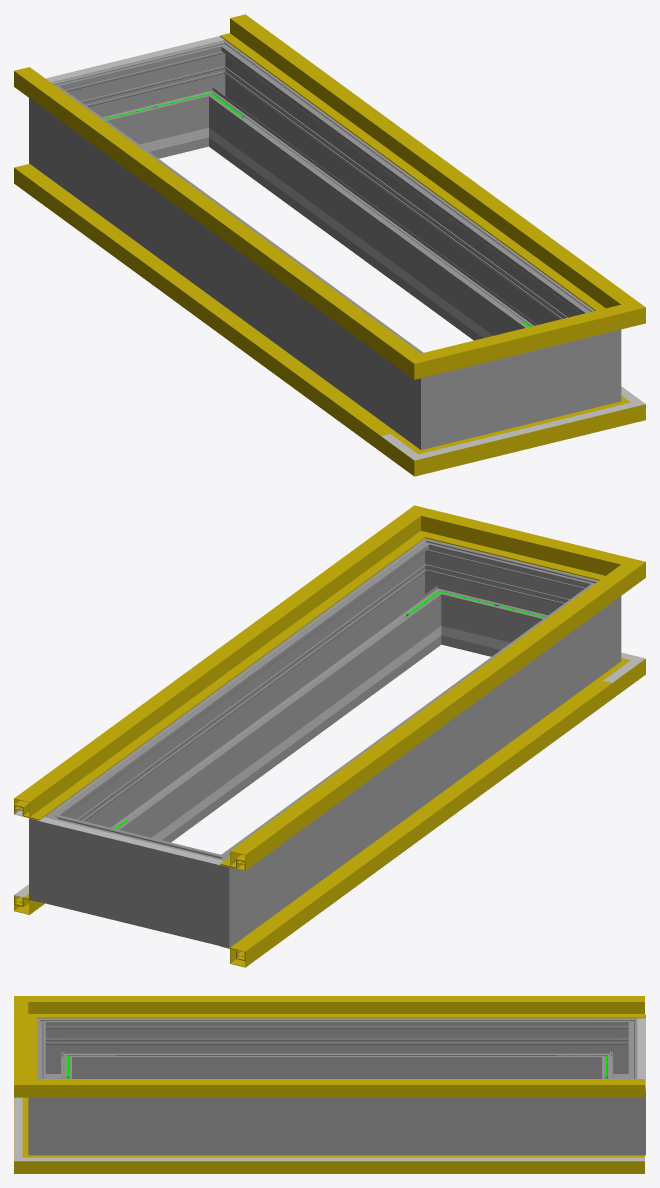
The picture shows the model from 3 angles, top to bottom: view 1: azimuth 30°, elevation 25°; view 2: azimuth 150°, elevation 25°; view 3: azimuth 270°, elevation 25°; orthographic projection. The views are drawn at different scales.
Parts seen in each view (by area): view 1: 3DGeom-297, 3DGeom-268, 3DGeom-128, 3DGeom-118, 3DGeom-6, 3DGeom-276, 3DGeom-270, 3DGeom-298, 3DGeom-284, 3DGeom-290, 3DGeom-25, 3DGeom-278 (+10 smaller); view 2: 3DGeom-297, 3DGeom-268, 3DGeom-128, 3DGeom-118, 3DGeom-6, 3DGeom-278, 3DGeom-276, 3DGeom-298, 3DGeom-284, 3DGeom-290, 3DGeom-123, 3DGeom-25 (+7 smaller); view 3: 3DGeom-268, 3DGeom-297, 3DGeom-118, 3DGeom-128, 3DGeom-16, 3DGeom-284, 3DGeom-290, 3DGeom-18, 3DGeom-278, 3DGeom-270, 3DGeom-120, 3DGeom-125 (+8 smaller).
Part boxes in pixels (bbox=[...]): 3DGeom-297: bbox=[214, 60, 578, 340]; 3DGeom-268: bbox=[62, 102, 406, 425]; 3DGeom-128: bbox=[220, 14, 611, 304]; 3DGeom-118: bbox=[14, 67, 395, 354]; 3DGeom-6: bbox=[14, 164, 396, 451]; 3DGeom-276: bbox=[92, 48, 199, 158]; 3DGeom-270: bbox=[387, 340, 478, 449]; 3DGeom-298: bbox=[479, 343, 563, 435]; 3DGeom-284: bbox=[177, 40, 252, 149]; 3DGeom-290: bbox=[563, 298, 621, 415]; 3DGeom-25: bbox=[14, 165, 389, 435]; 3DGeom-278: bbox=[29, 72, 114, 187]; 3DGeom-297: bbox=[72, 558, 435, 842]; 3DGeom-268: bbox=[244, 600, 587, 923]; 3DGeom-128: bbox=[14, 530, 406, 820]; 3DGeom-118: bbox=[220, 582, 612, 870]; 3DGeom-6: bbox=[220, 679, 612, 967]; 3DGeom-278: bbox=[171, 838, 262, 947]; 3DGeom-276: bbox=[87, 825, 181, 933]; 3DGeom-298: bbox=[451, 550, 557, 656]; 3DGeom-284: bbox=[29, 796, 97, 913]; 3DGeom-290: bbox=[397, 538, 473, 648]; 3DGeom-123: bbox=[457, 519, 587, 573]; 3DGeom-25: bbox=[236, 681, 611, 953]; 3DGeom-268: bbox=[81, 1018, 593, 1078]; 3DGeom-297: bbox=[81, 1097, 593, 1155]; 3DGeom-118: bbox=[66, 996, 644, 1018]; 3DGeom-128: bbox=[66, 1079, 644, 1097]; 3DGeom-16: bbox=[66, 1155, 644, 1173]; 3DGeom-284: bbox=[593, 1069, 645, 1155]; 3DGeom-290: bbox=[28, 1069, 80, 1155]; 3DGeom-18: bbox=[67, 1157, 644, 1161]; 3DGeom-278: bbox=[593, 1014, 645, 1078]; 3DGeom-270: bbox=[37, 1018, 80, 1078]; 3DGeom-120: bbox=[14, 996, 66, 1029]; 3DGeom-125: bbox=[14, 1063, 66, 1097].
Size of the model in its own units: 0.6096 by 0.2836 by 1.83.
